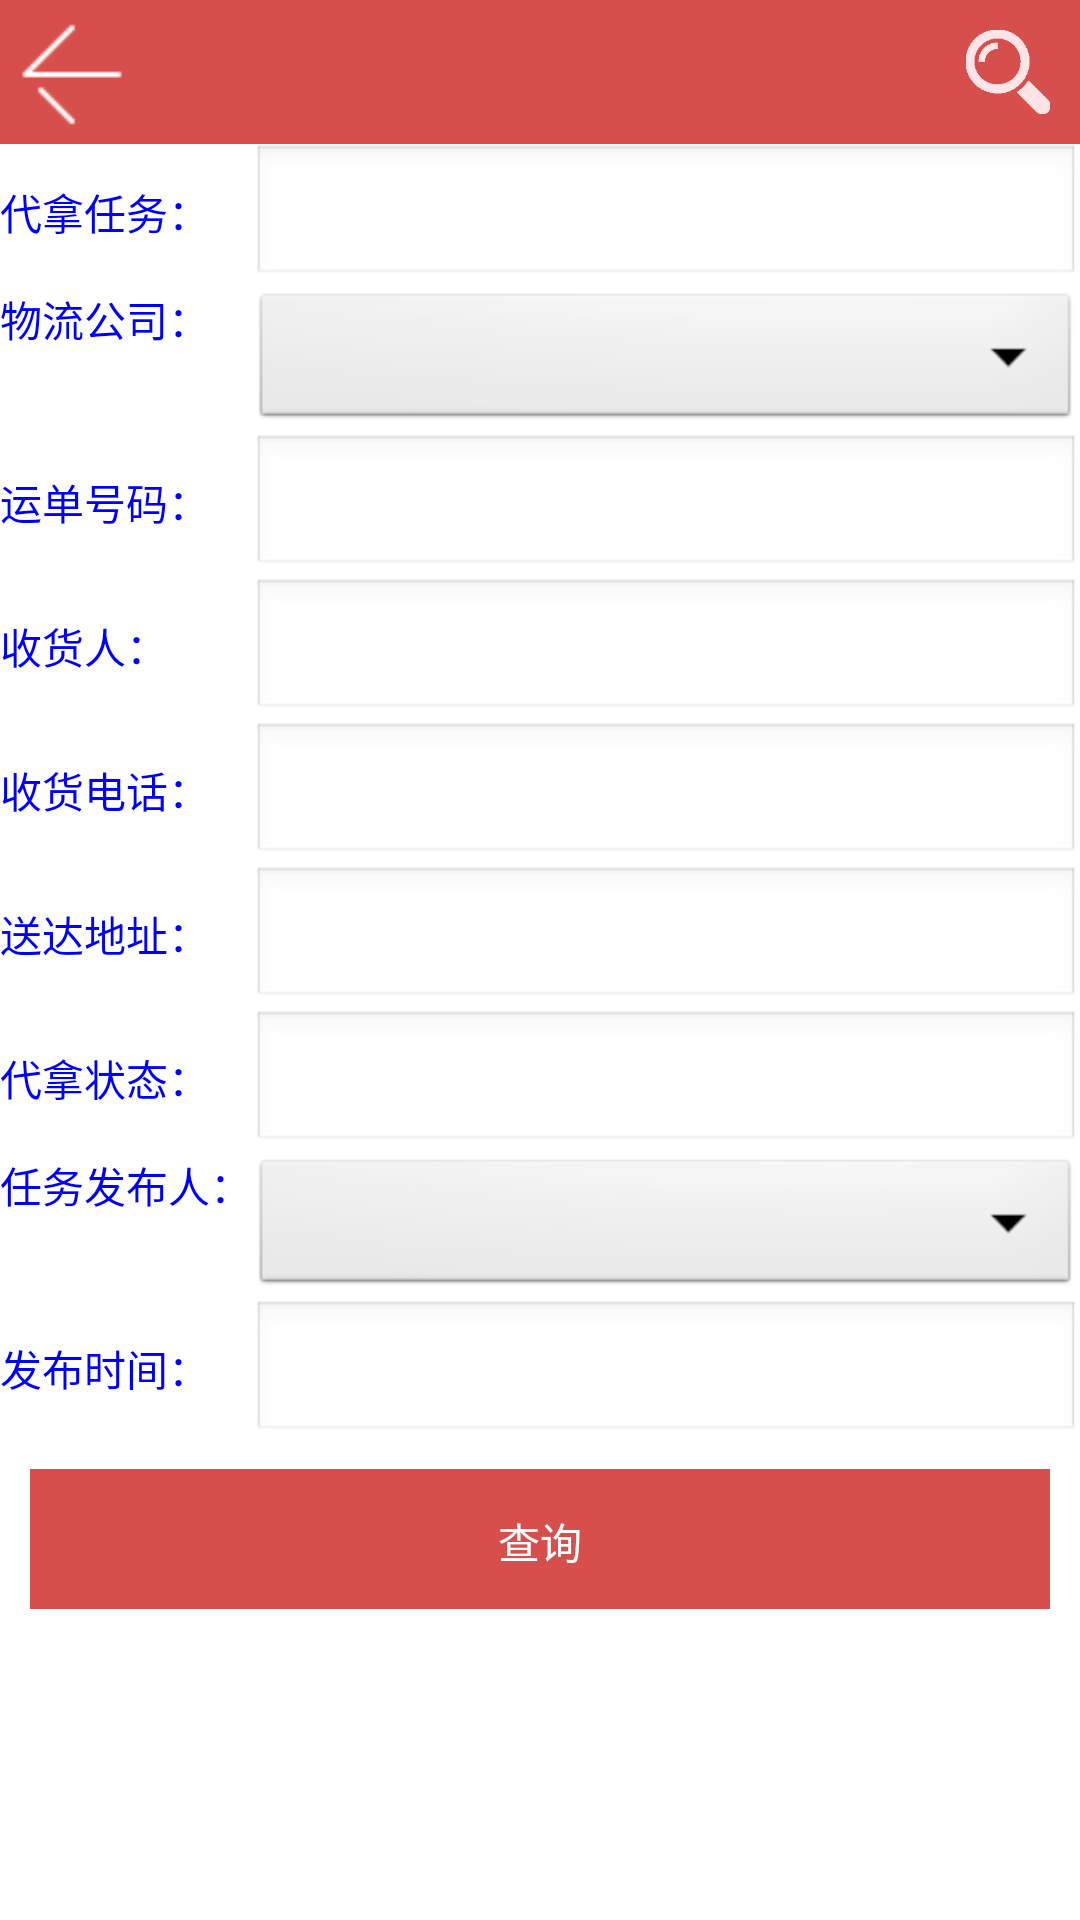

Icons on this 1080×1920 Android screen, each with its box as (x1, y1, x2, y2):
left: (22, 25, 122, 125)
search: (966, 30, 1050, 114)
